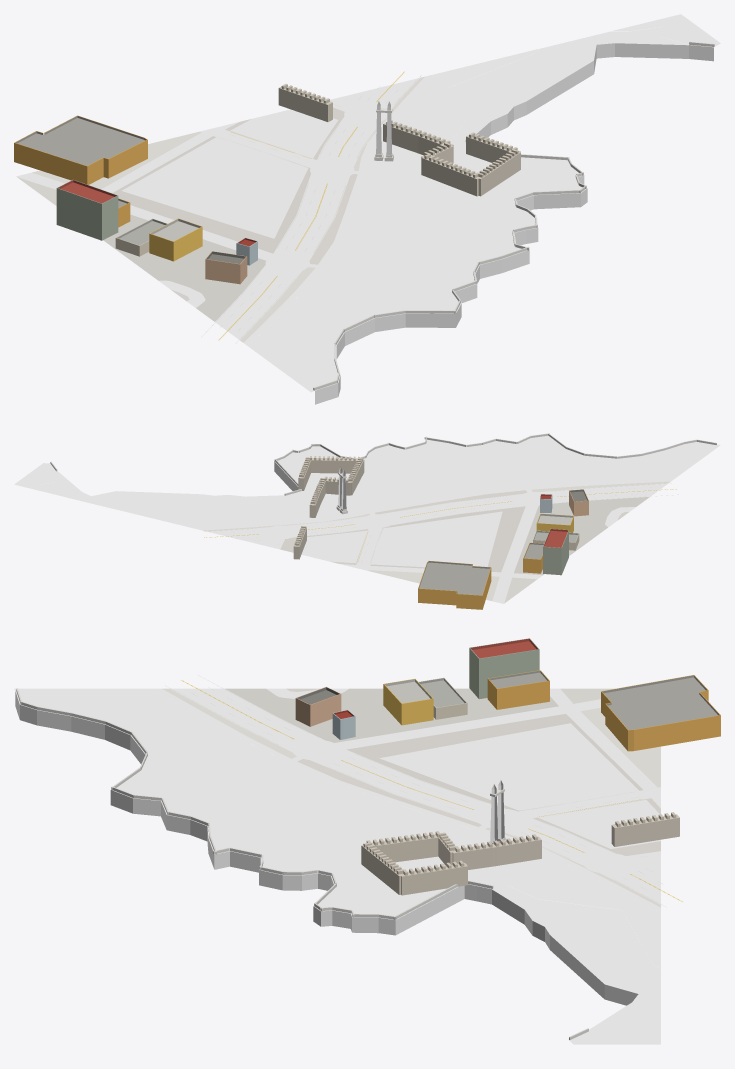
The picture shows the model from 3 angles, top to bottom: view 1: azimuth 30°, elevation 25°; view 2: azimuth 150°, elevation 25°; view 3: azimuth 270°, elevation 25°; orthographic projection. The views are drawn at different scales.
Visible parts, largest first — view 1: grass, concrete, plaza, asphalt, ground, stone, coast, walls, sand, roofs, markings; view 2: grass, concrete, plaza, asphalt, ground, sand, stone, roofs, walls, markings; view 3: grass, concrete, asphalt, plaza, ground, stone, coast, walls, sand, roofs, markings, mural.
Part boxes in pixels (x1,y1,x2,y2): grass: [122, 109, 441, 308]; concrete: [244, 74, 586, 392]; plaza: [337, 14, 720, 246]; asphalt: [16, 78, 419, 339]; ground: [17, 76, 424, 342]; stone: [278, 41, 714, 390]; coast: [315, 43, 713, 404]; walls: [14, 140, 257, 284]; sand: [447, 27, 688, 146]; roofs: [14, 115, 257, 264]; markings: [201, 71, 421, 343]; grass: [301, 440, 568, 567]; concrete: [195, 435, 720, 530]; plaza: [14, 454, 463, 546]; asphalt: [206, 483, 667, 603]; ground: [203, 481, 670, 603]; sand: [40, 471, 292, 520]; stone: [50, 433, 716, 559]; roofs: [418, 489, 588, 595]; walls: [418, 491, 588, 609]; markings: [204, 483, 678, 562]; grass: [131, 723, 660, 848]; concrete: [14, 688, 660, 919]; asphalt: [170, 688, 660, 904]; plaza: [251, 791, 660, 1044]; ground: [162, 688, 660, 907]; stone: [16, 688, 679, 1039]; coast: [15, 691, 638, 1005]; walls: [295, 648, 720, 751]; sand: [479, 885, 660, 1030]; roofs: [296, 638, 720, 730]; markings: [165, 675, 682, 907]; mural: [490, 785, 504, 842].
Size of what is drawn, in the model's own units: 260 by 26 by 210.
